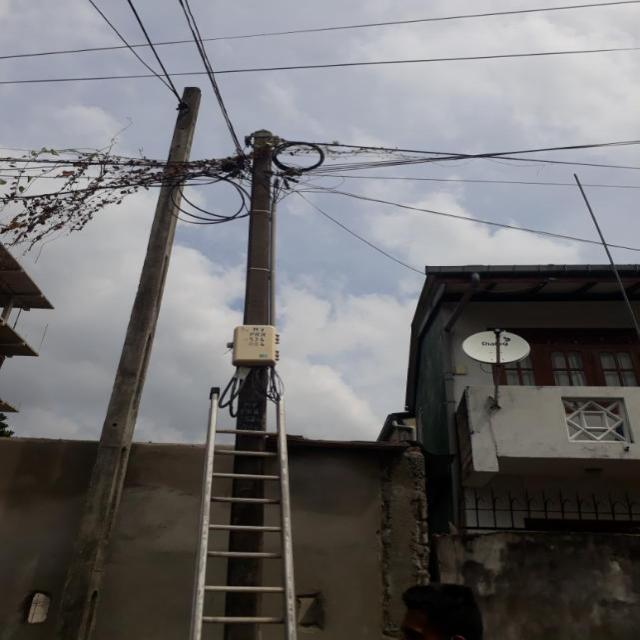light_pole: (54, 62, 212, 640), (220, 115, 276, 640)
